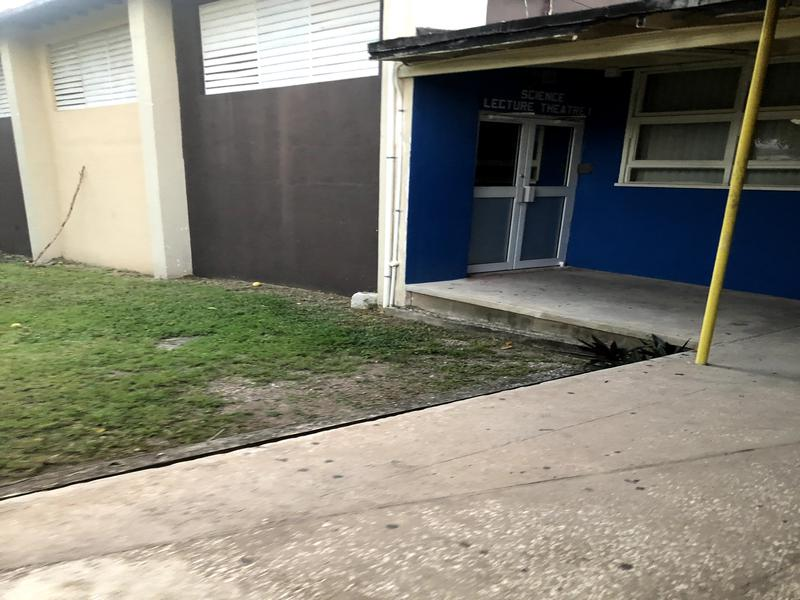18.0051836_-76.7497262_pclt1: (456, 101, 591, 286)
